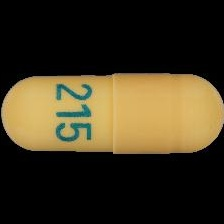61786-696: (0, 0, 224, 224)
